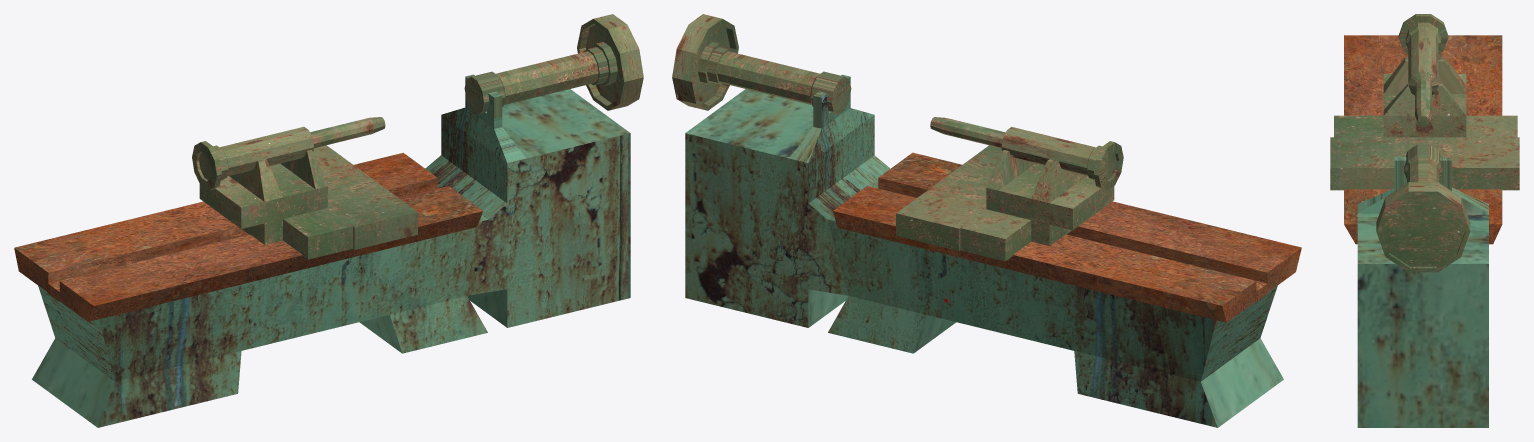
The model's file is StoneCUtter.glb.
3 renders of one model, left to right at view 1: azimuth 30°, elevation 25°; view 2: azimuth 150°, elevation 25°; view 3: azimuth 270°, elevation 25°, orthographic.
Visible parts, largest first — view 1: Cube.003, Cube.001, Cube.002, Cylinder; view 2: Cube.003, Cube.001, Cube.002, Cylinder; view 3: Cube.003, Cube.002, Cube.001, Cylinder.
Part boxes in pixels (box(x1,y1,x2,y2)): Cube.003: box(32, 74, 630, 427); Cube.001: box(14, 152, 482, 321); Cube.002: box(192, 117, 417, 259); Cylinder: box(464, 14, 643, 114); Cube.003: box(685, 74, 1283, 427); Cube.001: box(833, 152, 1301, 322); Cube.002: box(896, 117, 1123, 261); Cylinder: box(672, 14, 851, 114); Cube.003: box(1357, 156, 1488, 427); Cube.002: box(1330, 14, 1519, 190); Cube.001: box(1344, 35, 1502, 244); Cylinder: box(1376, 144, 1470, 272).
Bounding box in the file's own units: 13.84 × 5.82 × 4.03.
Materials: 3 (3 with a texture image).
